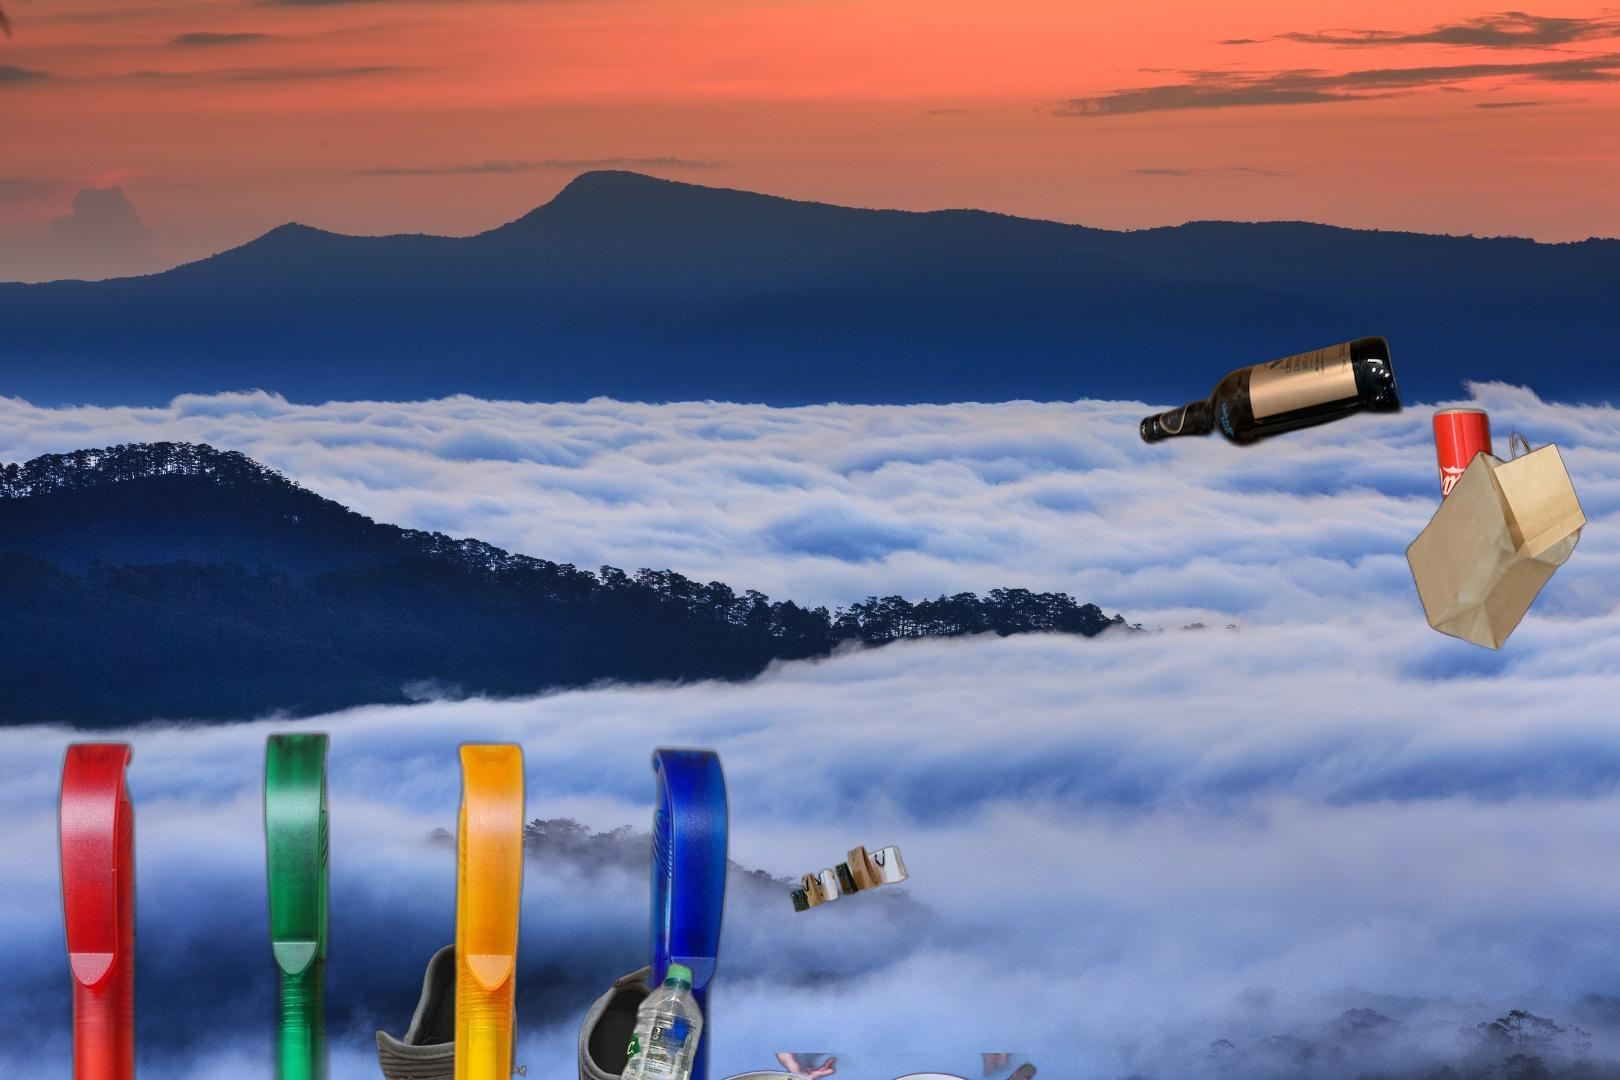biological: (579, 1053, 1132, 1080)
glass: (1135, 333, 1405, 451)
metal-cans: (1430, 403, 1505, 559)
paper-bag: (1403, 422, 1590, 653), (788, 844, 918, 915)
penholder: (49, 723, 736, 1080)
plastic-bottles: (583, 929, 708, 1080)
shoes: (372, 918, 722, 1080)
